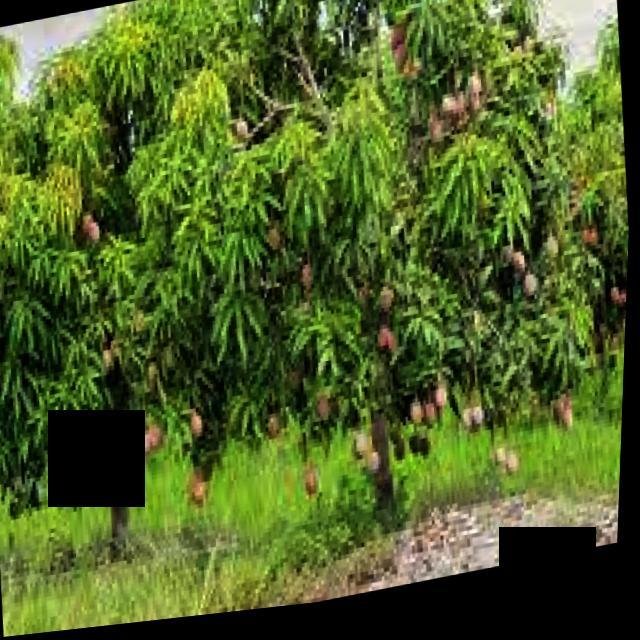Tree: (181, 1, 640, 576), (1, 1, 235, 617)
